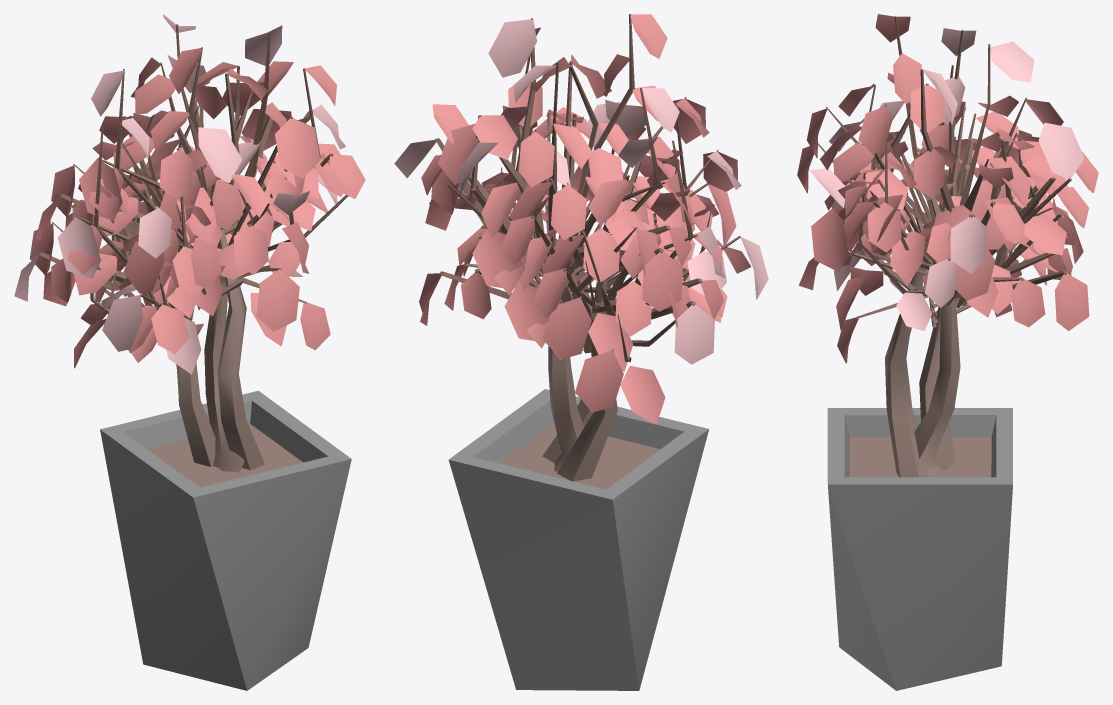
The model's file is flower_007.fbx.
3 views of the same model, side by side, from view 1: azimuth 30°, elevation 25°; view 2: azimuth 150°, elevation 25°; view 3: azimuth 270°, elevation 25° (orthographic). The views are drawn at different scales.
Visible parts, largest first — view 1: flower_007; view 2: flower_007; view 3: flower_007.
Boxes of the visible parts, x1,y1,x2,y2 form: flower_007: [14, 14, 365, 690]; flower_007: [394, 14, 768, 690]; flower_007: [797, 14, 1098, 690].
Size of the model in its own units: 58.1 by 48.36 by 110.
